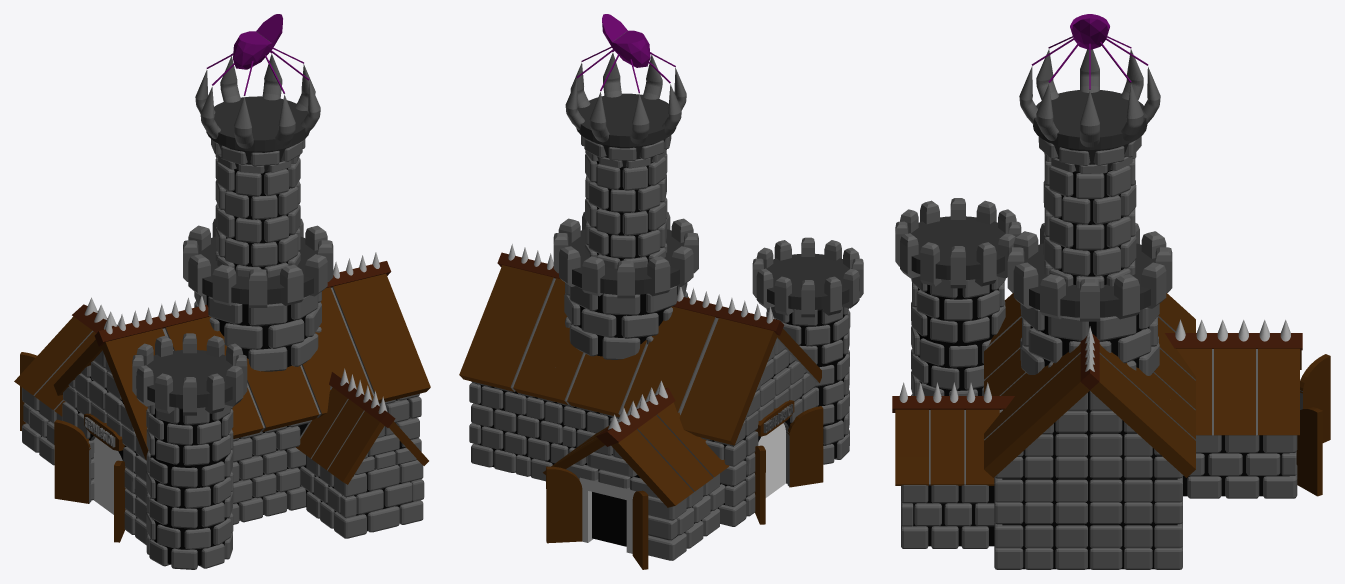
Rendered from baseMP1.fbx.
3 renders of one model, left to right at view 1: azimuth 30°, elevation 25°; view 2: azimuth 150°, elevation 25°; view 3: azimuth 270°, elevation 25°, orthographic. The views are drawn at different scales.
Parts seen in each view (by area): view 1: Cube.221; view 2: Cube.221; view 3: Cube.221.
Part boxes in pixels (x1,y1,x2,y2): Cube.221: (14, 14, 430, 569); Cube.221: (459, 14, 863, 569); Cube.221: (892, 14, 1330, 569).
Bounding box in the file's own units: 5778 × 8242 × 6519.
